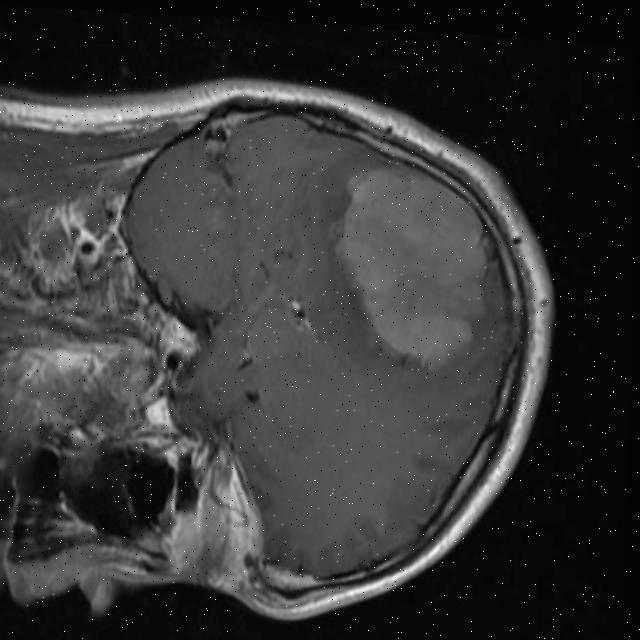Meningioma: (321, 158, 495, 375)
